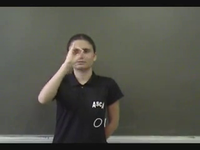oi: (63, 42, 87, 63)
